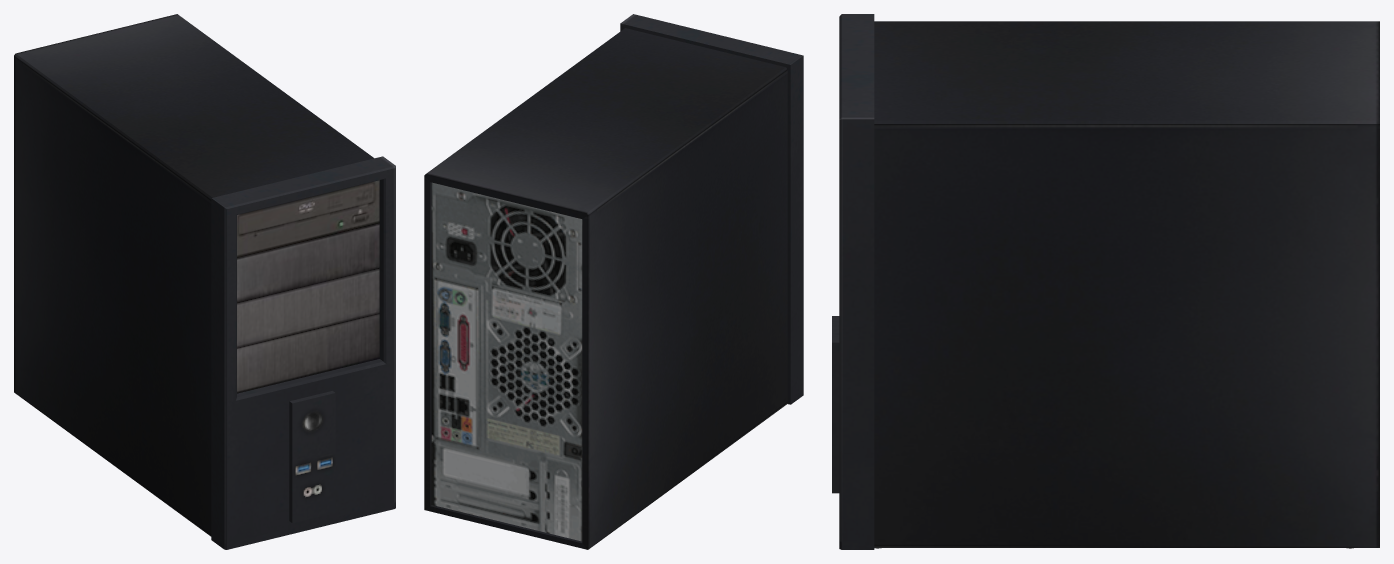
Rendered from PROPS_computerMainFrame_01.FBX.
3 views of the same model, side by side, from view 1: azimuth 30°, elevation 25°; view 2: azimuth 150°, elevation 25°; view 3: azimuth 270°, elevation 25° (orthographic). The views are drawn at different scales.
Visible parts, largest first — view 1: PROPS_computer_01_mainFrame; view 2: PROPS_computer_01_mainFrame; view 3: PROPS_computer_01_mainFrame.
Part boxes in pixels (<box>): PROPS_computer_01_mainFrame: <box>14,14,395,549</box>; PROPS_computer_01_mainFrame: <box>424,14,803,549</box>; PROPS_computer_01_mainFrame: <box>832,14,1379,549</box>.
Size of the model in its own units: 26.27 by 51.11 by 57.73.
Materials: 1 (1 with a texture image).
